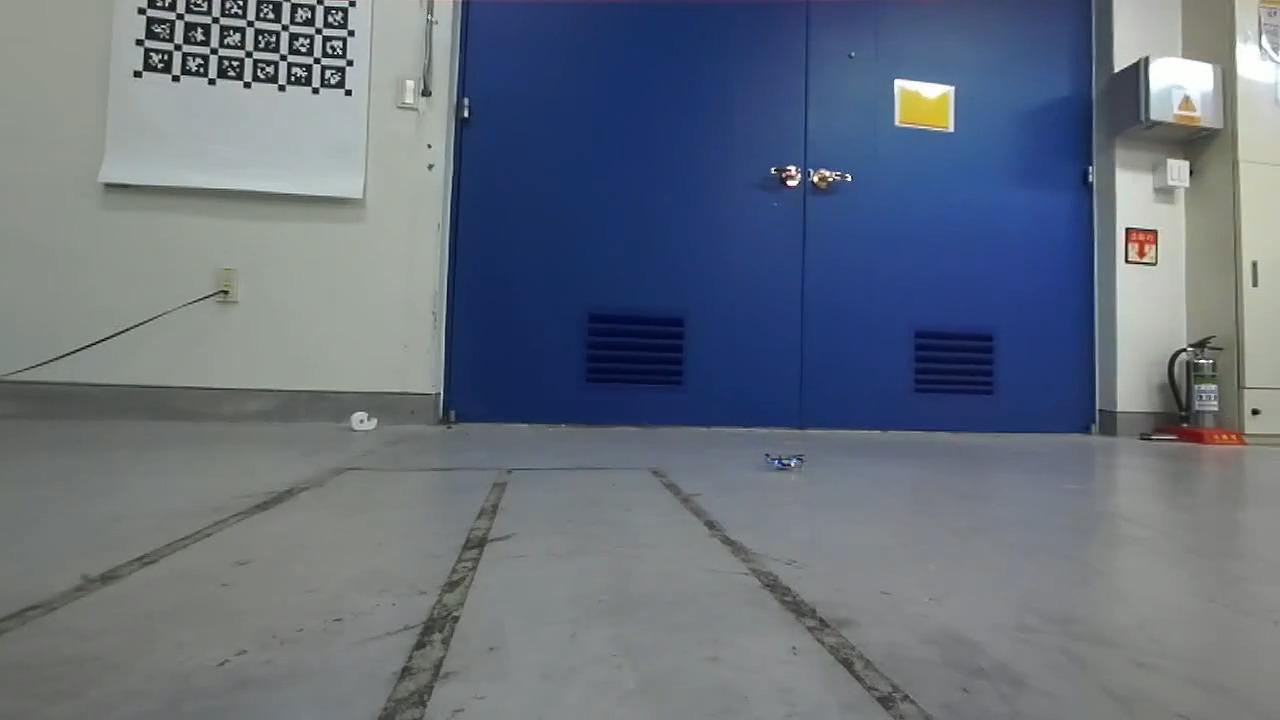crazyflie: (759, 447, 809, 477)
